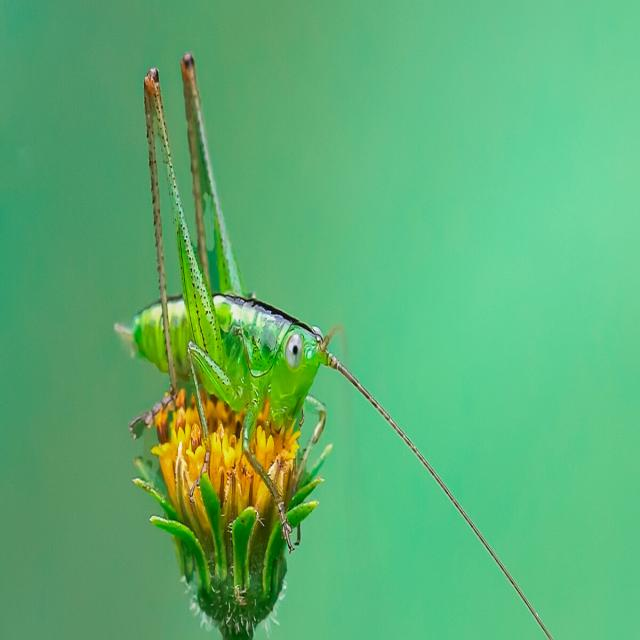ZhaMeng: (91, 42, 356, 450)
